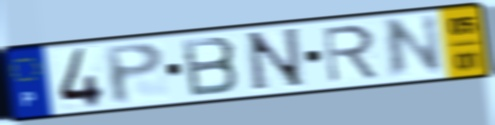4: (56, 45, 107, 110)
B: (178, 34, 242, 99)
N: (243, 26, 309, 95), (383, 12, 446, 83)
P: (101, 40, 168, 106)
R: (319, 22, 381, 86)
